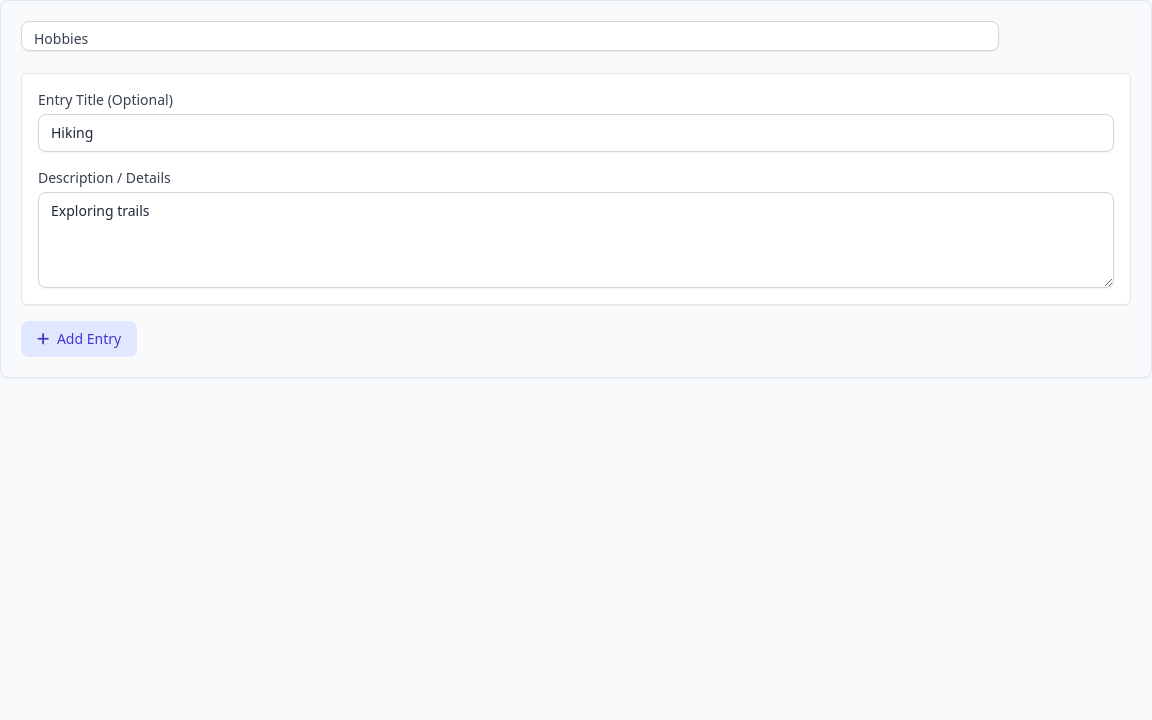
CustomSectionEditor.vue › adds a new item when "Add Entry" is clicked
Step 1. Click the button "Add Entry" → (79, 339), box top-left (21, 321), bottom-right (137, 357)
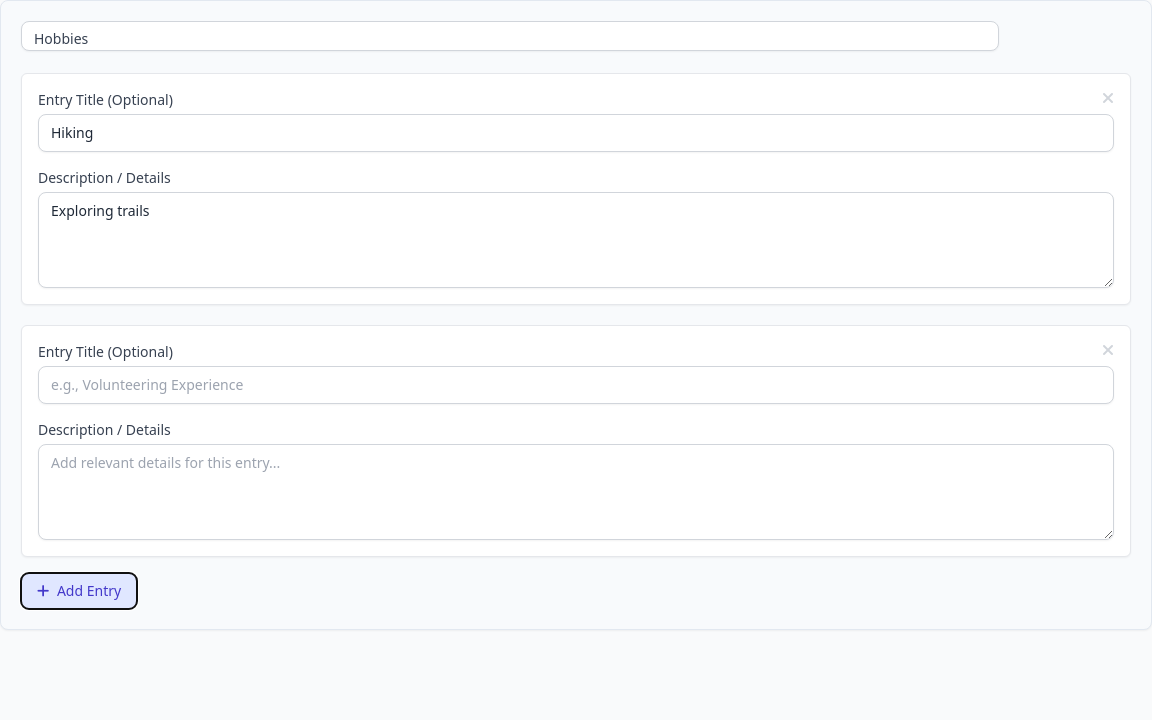
Now the number of fields labelled "Entry Title (Optional)" is 2, box top-left (38, 114), bottom-right (1114, 152); top-left (38, 366), bottom-right (1114, 404)
